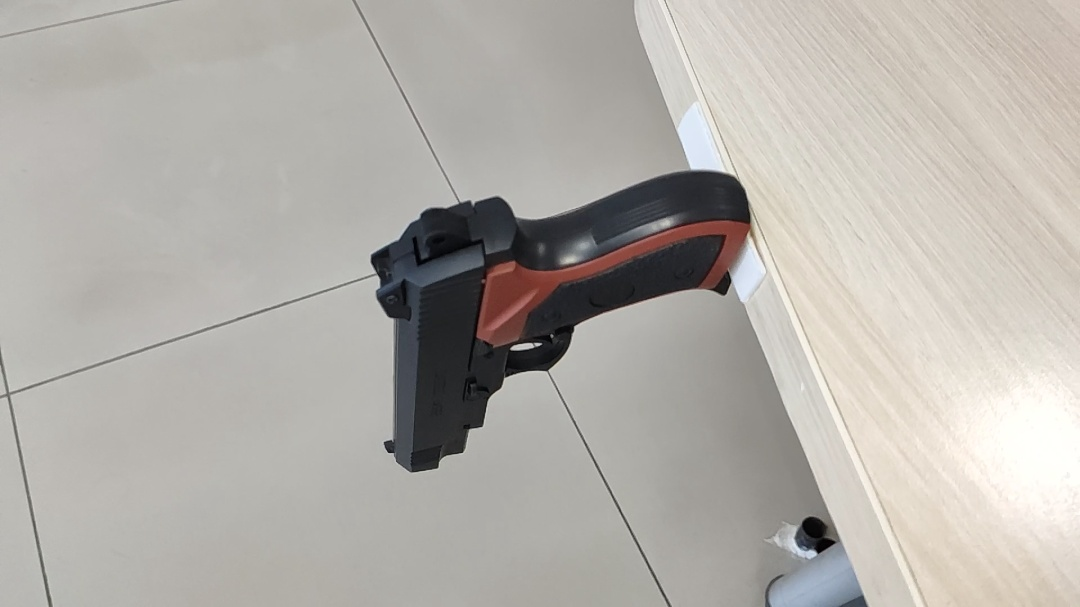gun: (367, 166, 754, 479)
